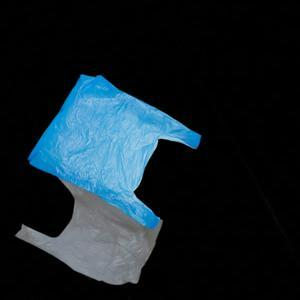plastic_bag: (26, 69, 206, 232), (13, 172, 165, 287)
